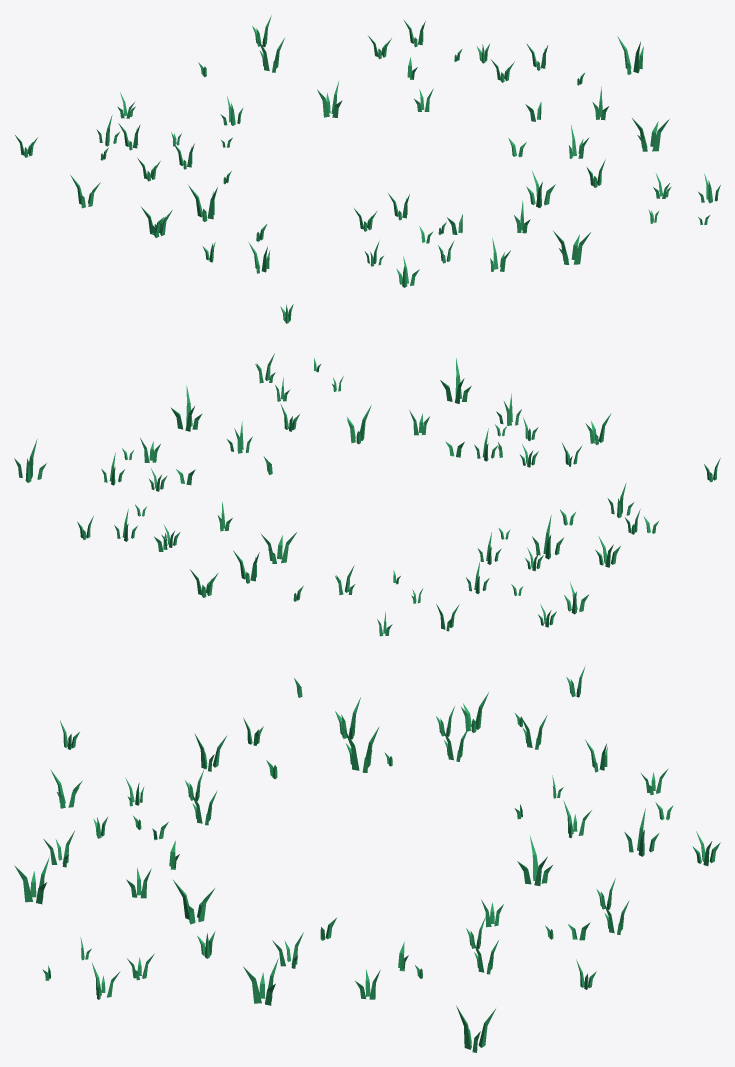
File: lowpoly_grass.glb
3 renders of one model, top to bottom at view 1: azimuth 30°, elevation 25°; view 2: azimuth 150°, elevation 25°; view 3: azimuth 270°, elevation 25°, orthographic. The views are drawn at different scales.
Bounding box in the file's own units: 672 × 59.22 × 592.
